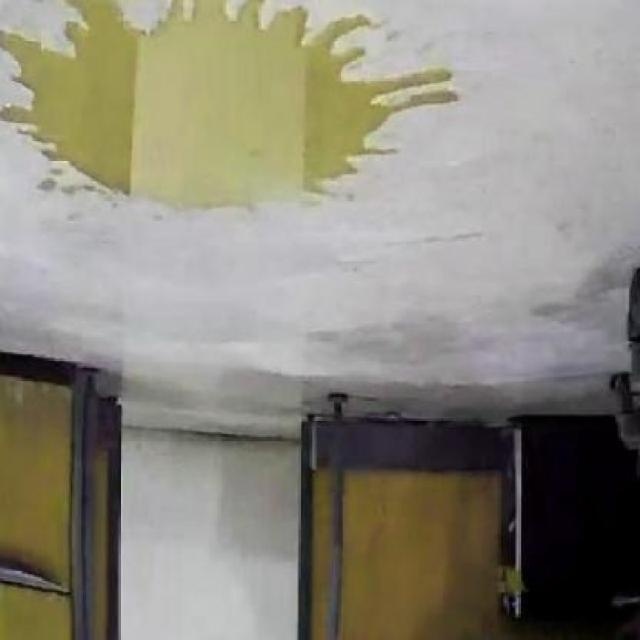spillage: (0, 0, 452, 206)
